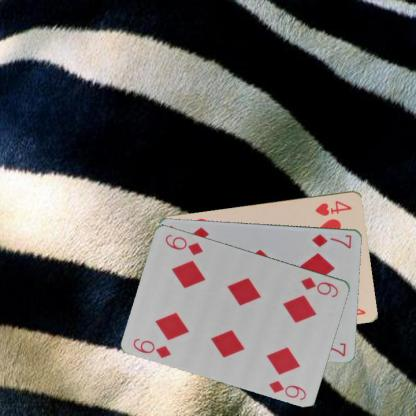4h: (313, 198, 353, 216)
6d: (298, 274, 340, 298), (130, 335, 172, 359)
7d: (310, 231, 353, 250)
